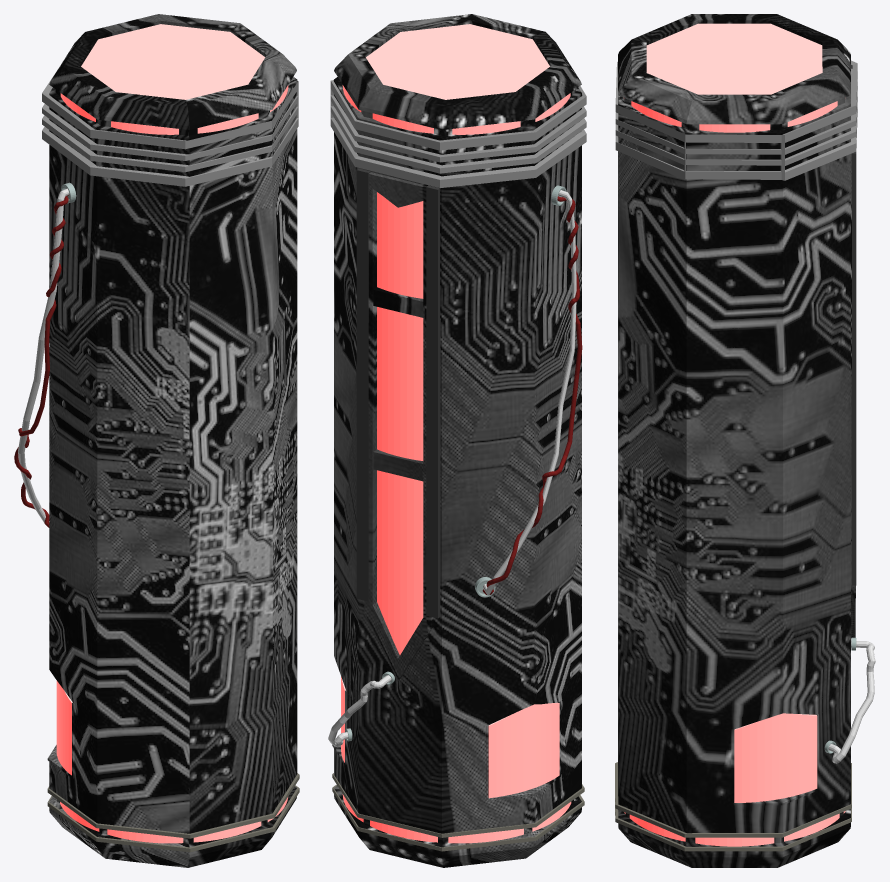
The model's file is obstacle-new.fbx.
3 renders of one model, left to right at view 1: azimuth 30°, elevation 25°; view 2: azimuth 150°, elevation 25°; view 3: azimuth 270°, elevation 25°, orthographic.
Visible parts, largest first — view 1: Circle, Cylinder, Circle.001, Circle.002, Plane, Plane.002; view 2: Circle, Cylinder, Plane.003, Circle.001, Circle.002, Plane, Plane.002, Plane.001, Cylinder.001; view 3: Circle, Cylinder, Circle.001, Circle.002, Plane.003, Plane.001.
Boxes of the visible parts, x1,y1,x2,y2 form: Circle: (47, 14, 297, 867); Cylinder: (56, 24, 288, 843); Circle.001: (42, 68, 298, 186); Circle.002: (47, 773, 299, 852); Plane: (18, 188, 69, 522); Plane.002: (14, 195, 68, 527); Circle: (332, 14, 581, 867); Cylinder: (341, 24, 571, 843); Plane.003: (356, 168, 440, 618); Circle.001: (330, 80, 586, 188); Circle.002: (332, 773, 584, 851); Plane: (483, 190, 576, 595); Plane.002: (482, 196, 582, 594); Plane.001: (328, 675, 391, 747); Cylinder.001: (345, 185, 566, 741); Circle: (618, 14, 855, 867); Cylinder: (624, 23, 845, 846); Circle.001: (615, 60, 857, 180); Circle.002: (615, 762, 851, 851); Plane.003: (852, 152, 856, 585); Plane.001: (828, 641, 875, 763).
Size of the model in its own units: 227 by 714 by 220.
